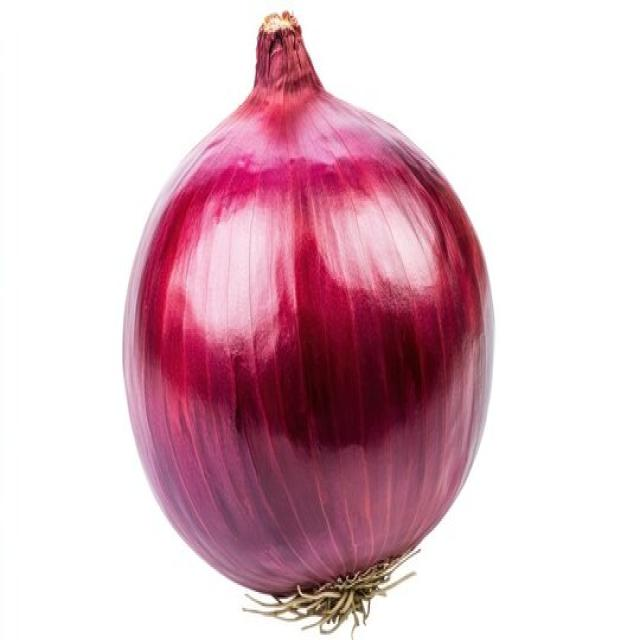Onion: (121, 9, 495, 635)
